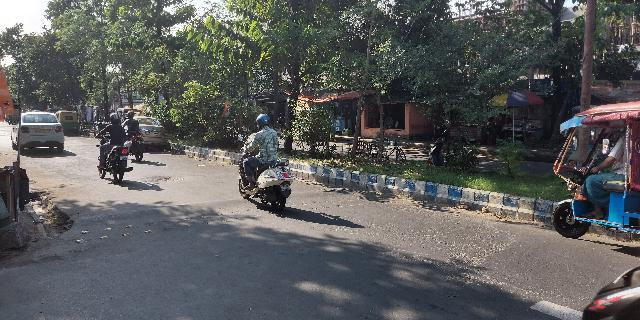Car: (9, 111, 66, 153), (127, 110, 169, 153)
Motorbike: (228, 112, 298, 215), (96, 109, 127, 184), (122, 107, 145, 166)
Rickshaw: (545, 92, 639, 239)
